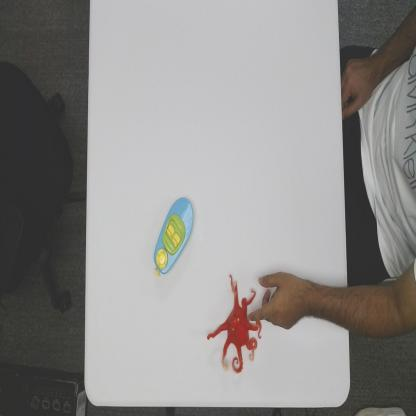Arm: (309, 258, 416, 342)
Boat: (153, 196, 194, 278)
Hand: (247, 272, 307, 332)
Octopus: (206, 272, 263, 374)
